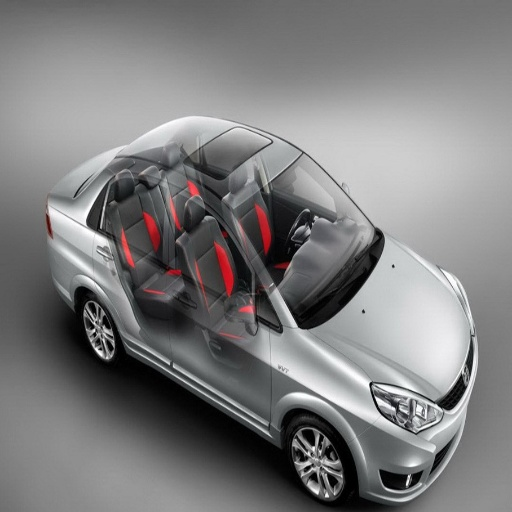front_bumper: (351, 383, 472, 509), (49, 205, 93, 292)
front_glass: (291, 259, 341, 326)
front_right_door: (152, 232, 278, 428)
front_right_light: (370, 384, 441, 431)
